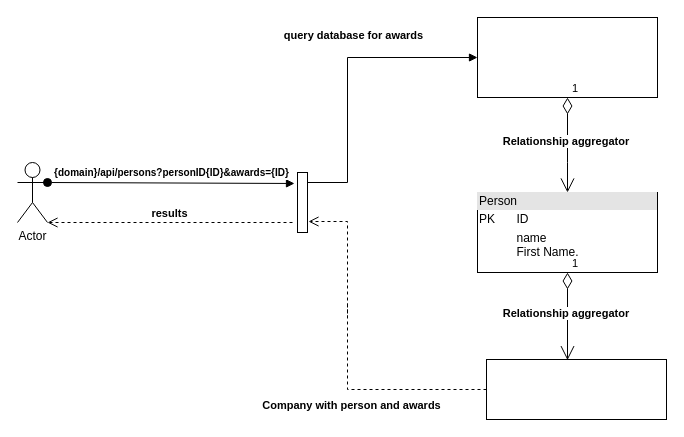
Some shapes in this 684 by 437 pixel diagram are drawn without their labels. The shapes that lost their labels are listed below. From the top down, each one's box as (x1, y1, x2, y2) in pixels, then its label:
(476, 16, 658, 98): Company PK Company Name CEO Employees
(486, 358, 666, 420): Awards PK ID Title
